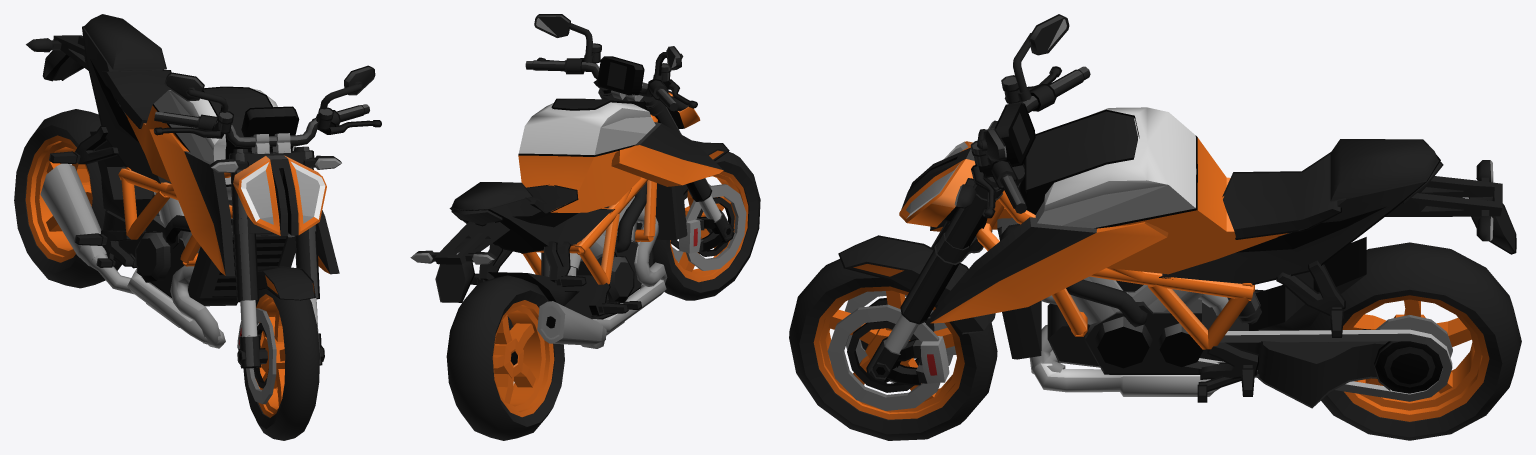
File: Toon_SuperDuke.glb
3 views of the same model, side by side, from view 1: azimuth 30°, elevation 25°; view 2: azimuth 150°, elevation 25°; view 3: azimuth 270°, elevation 25° (orthographic). The views are drawn at different scales.
Parts seen in each view (by area): view 1: Toon_SuperDuke, Toon_SuperDuke_Steer, Toon_SuperDuke_W_R, Toon_SuperDuke_W_F; view 2: Toon_SuperDuke, Toon_SuperDuke_W_R, Toon_SuperDuke_Steer, Toon_SuperDuke_W_F; view 3: Toon_SuperDuke, Toon_SuperDuke_W_R, Toon_SuperDuke_Steer, Toon_SuperDuke_W_F.
Boxes of the visible parts, bbox=[...] form: Toon_SuperDuke: bbox=[26, 14, 339, 348]; Toon_SuperDuke_Steer: bbox=[153, 65, 381, 368]; Toon_SuperDuke_W_R: bbox=[14, 109, 121, 288]; Toon_SuperDuke_W_F: bbox=[243, 288, 319, 440]; Toon_SuperDuke: bbox=[410, 98, 723, 348]; Toon_SuperDuke_W_R: bbox=[446, 275, 564, 440]; Toon_SuperDuke_Steer: bbox=[525, 14, 734, 253]; Toon_SuperDuke_W_F: bbox=[653, 152, 760, 300]; Toon_SuperDuke: bbox=[930, 107, 1516, 408]; Toon_SuperDuke_W_R: bbox=[1308, 242, 1521, 440]; Toon_SuperDuke_Steer: bbox=[838, 14, 1090, 385]; Toon_SuperDuke_W_F: bbox=[789, 259, 997, 440].
Bounding box in the file's own units: 0.8307 × 1.26 × 2.1.
1 material, 1 textured.
